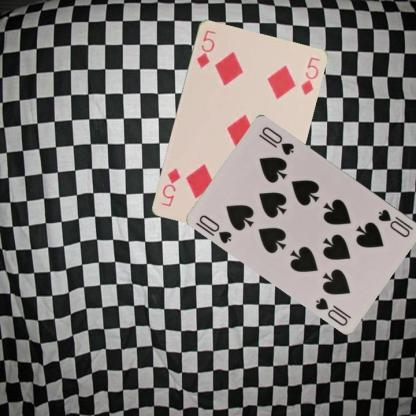10s: (375, 206, 415, 239), (197, 212, 234, 245)
5d: (194, 27, 217, 69)
